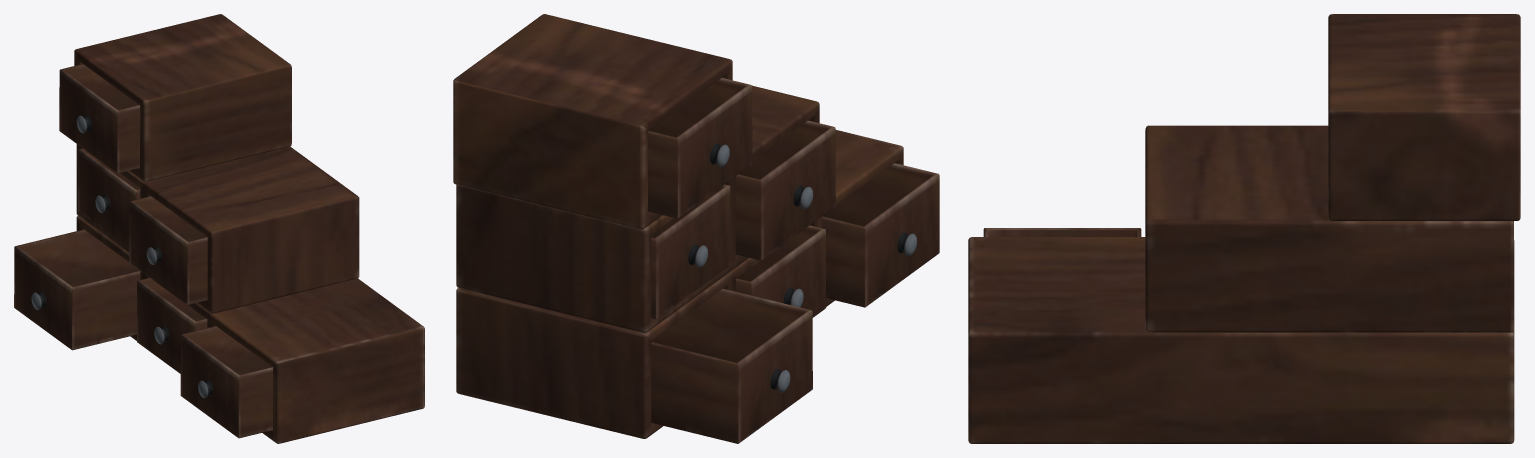
File: SM_TillFrame_Pack1.fbx
3 renders of one model, left to right at view 1: azimuth 30°, elevation 25°; view 2: azimuth 150°, elevation 25°; view 3: azimuth 270°, elevation 25°, orthographic. The views are drawn at different scales.
Parts seen in each view (by area): view 1: SM_TillFrame_Pack1_LOD0; view 2: SM_TillFrame_Pack1_LOD0; view 3: SM_TillFrame_Pack1_LOD0.
Boxes of the visible parts, x1=… form: SM_TillFrame_Pack1_LOD0: x1=14, y1=14, x2=424, y2=443; SM_TillFrame_Pack1_LOD0: x1=453, y1=14, x2=939, y2=443; SM_TillFrame_Pack1_LOD0: x1=968, y1=14, x2=1520, y2=443.
Size of the model in its own units: 45.03 by 71.01 by 47.4.
1 material, 1 textured.
